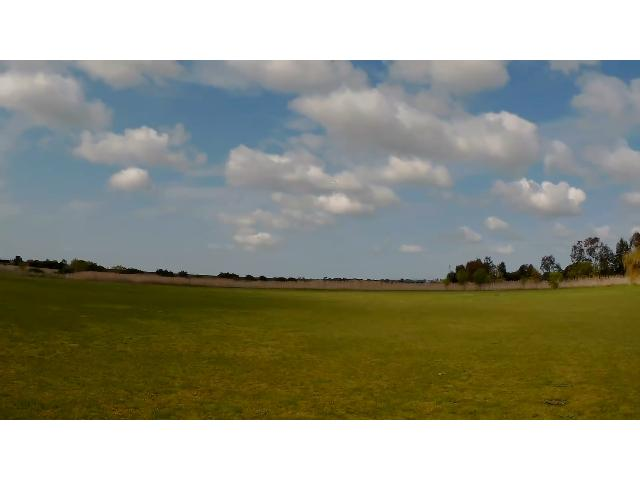Anti-Drone: (320, 175, 350, 189)
